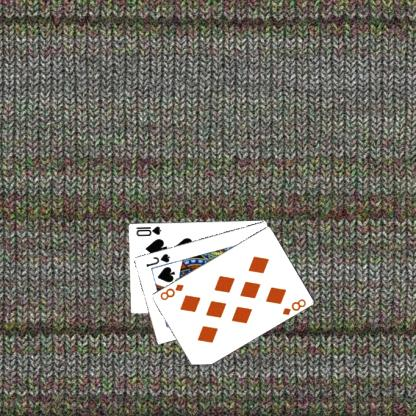10S: (135, 223, 164, 237)
8D: (158, 282, 186, 302), (281, 296, 309, 316)
JS: (145, 250, 173, 268)
